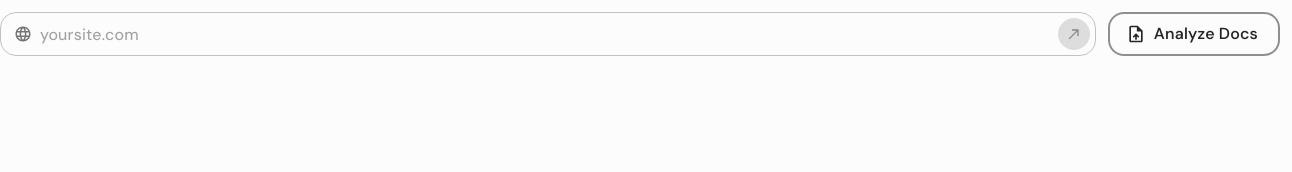
Test: QuickAuditBar › locks the submit while the audit runs and navigates on success
Later steps or results of the test are not shown.
Type "example.com" into the field named "Website address to audit" at (545, 34), box [40,14,1050,54]
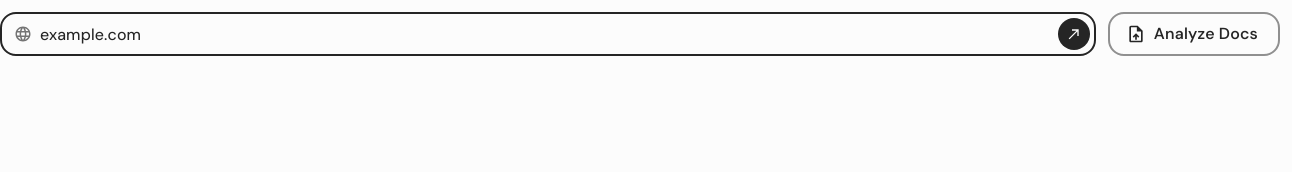
Click the button named "Run audit" at (1074, 34), box [1058,18,1090,50]
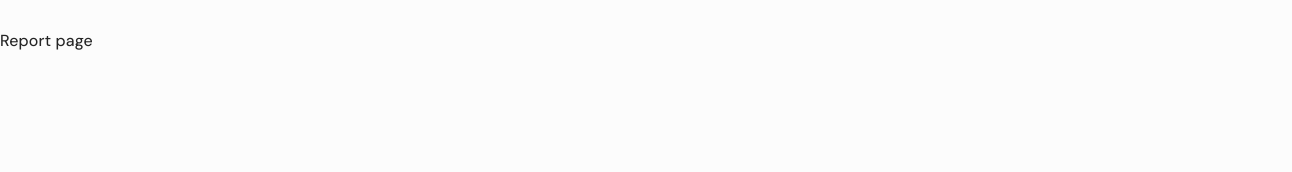
Now the text "Report page" is shown, box [0,30,93,51]
